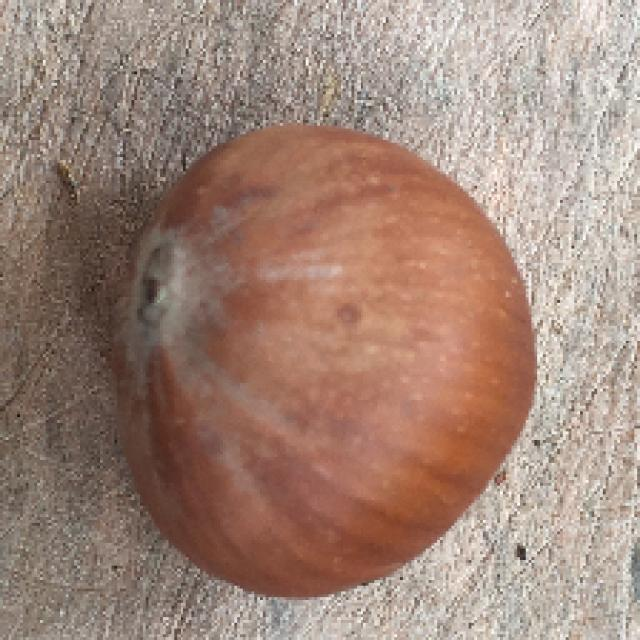DamagedHazelnut: (123, 125, 537, 598)
